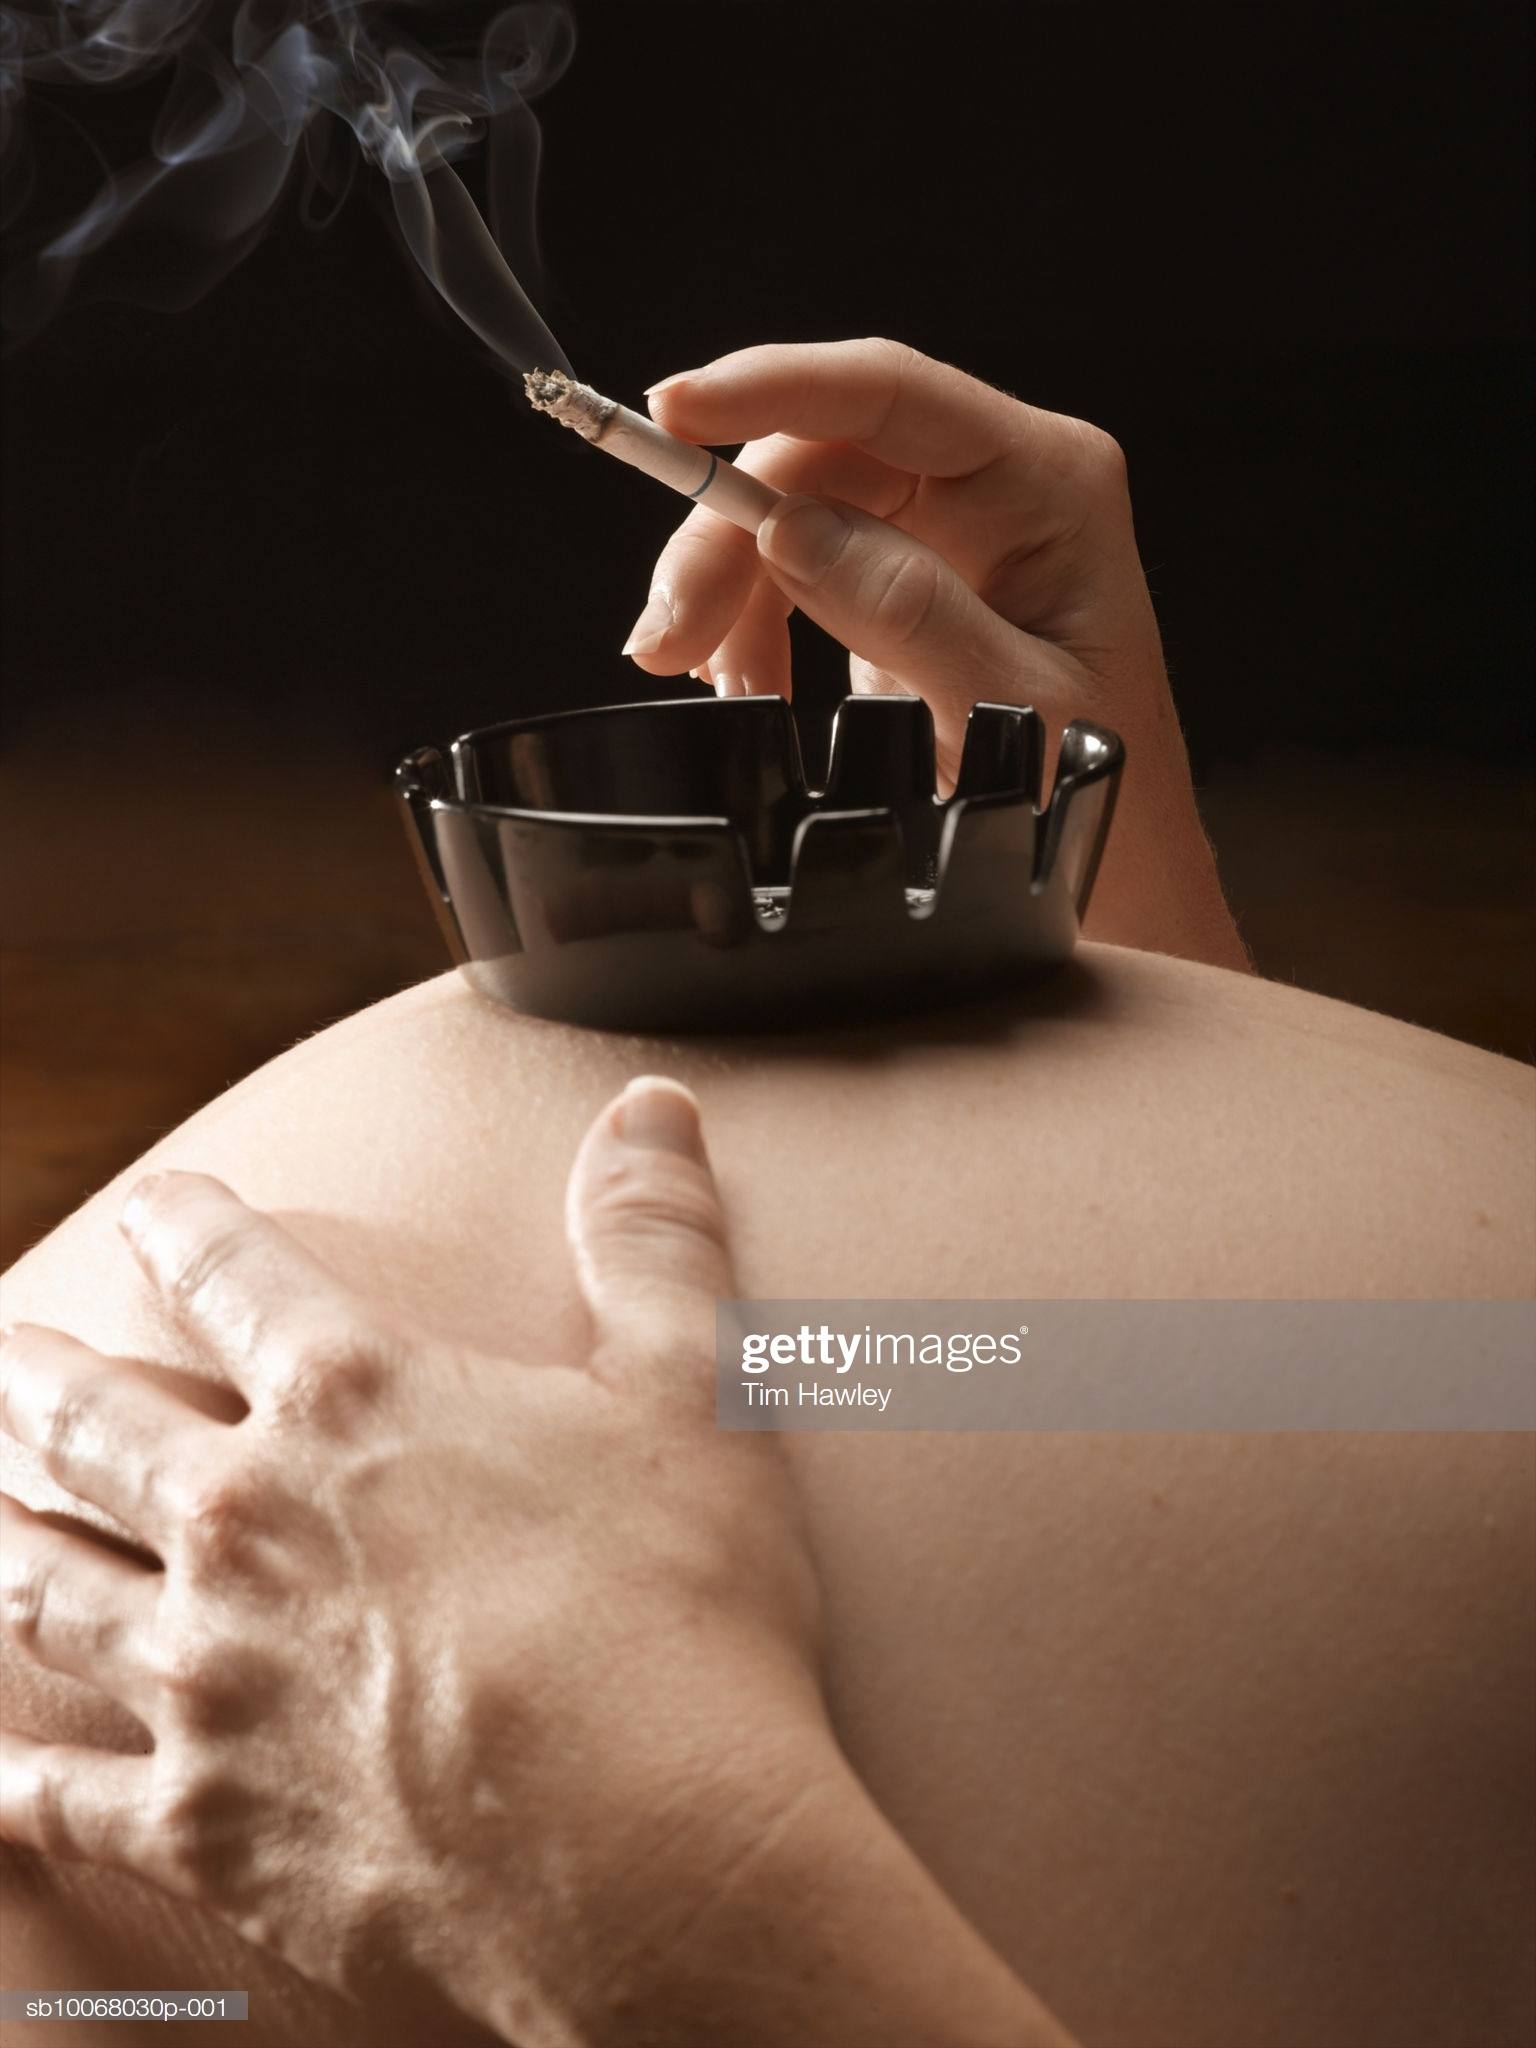sigaretta: (513, 373, 857, 548)
